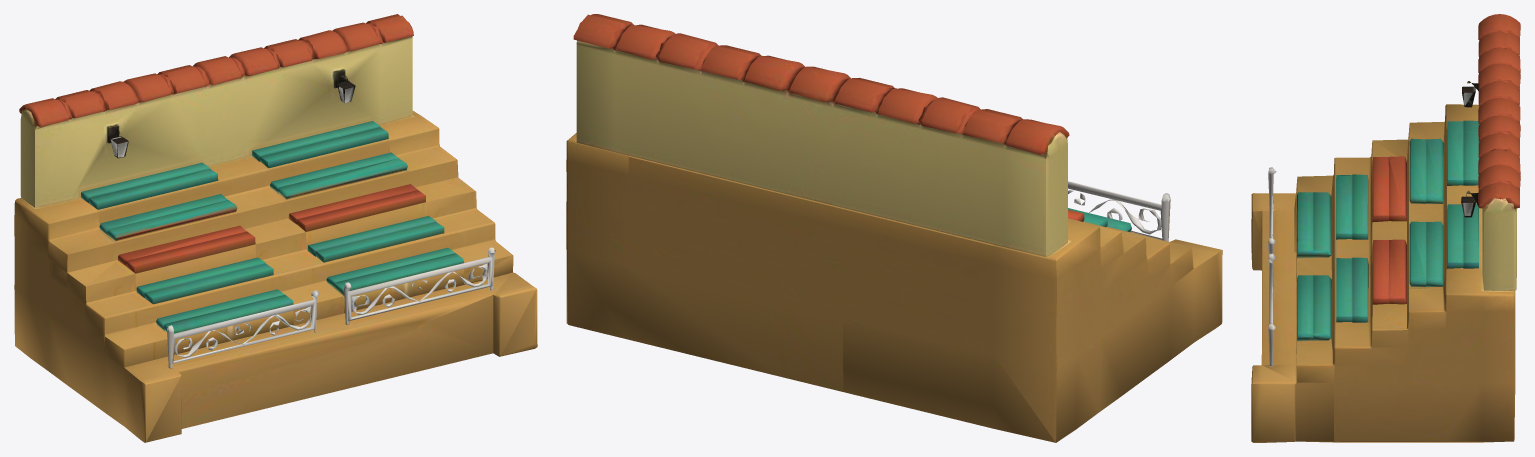
File: pueblo_grada_principal.glb
The picture shows the model from 3 angles, left to right: view 1: azimuth 30°, elevation 25°; view 2: azimuth 150°, elevation 25°; view 3: azimuth 270°, elevation 25°; orthographic projection. The views are drawn at different scales.
Visible parts, largest first — view 1: tripo_node_be68abd7-7c57-489a-b495-e5a1e689f981; view 2: tripo_node_be68abd7-7c57-489a-b495-e5a1e689f981; view 3: tripo_node_be68abd7-7c57-489a-b495-e5a1e689f981.
Part boxes in pixels (box(x1,y1,x2,y2)): tripo_node_be68abd7-7c57-489a-b495-e5a1e689f981: box(14, 14, 537, 442); tripo_node_be68abd7-7c57-489a-b495-e5a1e689f981: box(566, 14, 1222, 442); tripo_node_be68abd7-7c57-489a-b495-e5a1e689f981: box(1251, 14, 1520, 442).
Bounding box in the file's own units: 0.9985 × 0.5962 × 0.5957.
1 material, 1 textured.
